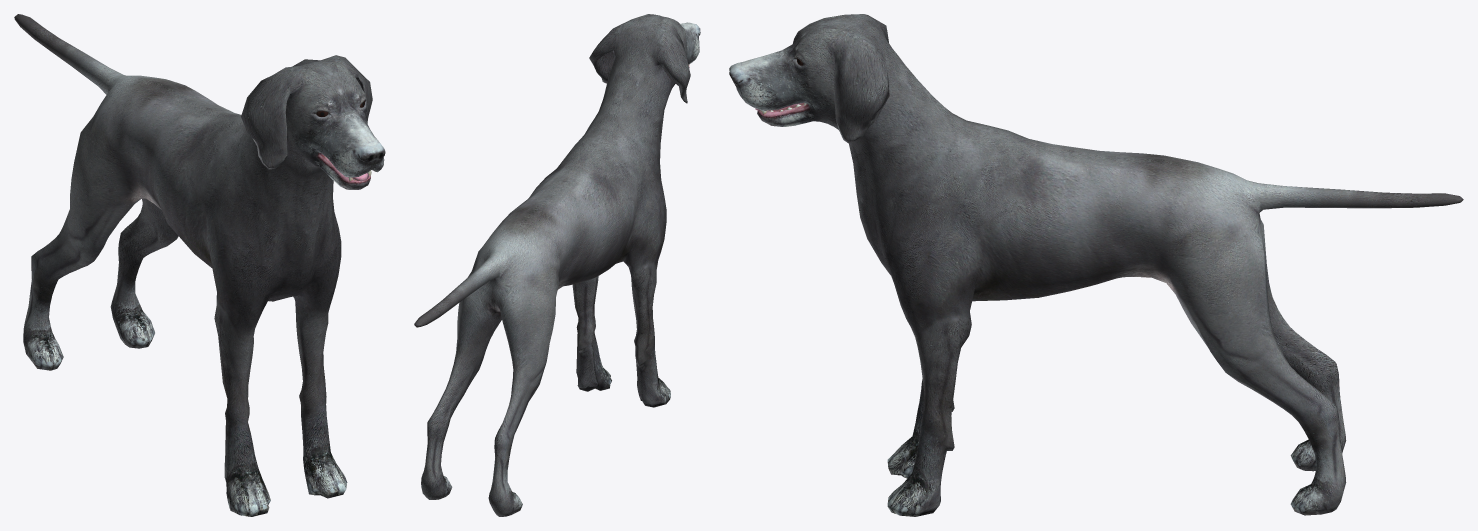
The model's file is dog.glb.
The picture shows the model from 3 angles, left to right: view 1: azimuth 30°, elevation 25°; view 2: azimuth 150°, elevation 25°; view 3: azimuth 270°, elevation 25°; orthographic projection. The views are drawn at different scales.
Parts seen in each view (by area): view 1: dog; view 2: dog; view 3: dog.
Boxes of the visible parts, x1,y1,x2,y2 form: dog: [14, 14, 385, 516]; dog: [414, 14, 700, 516]; dog: [729, 14, 1463, 516].
Size of the model in its own units: 0.5892 by 2.1 by 2.99.
Materials: 2 (2 with a texture image).
